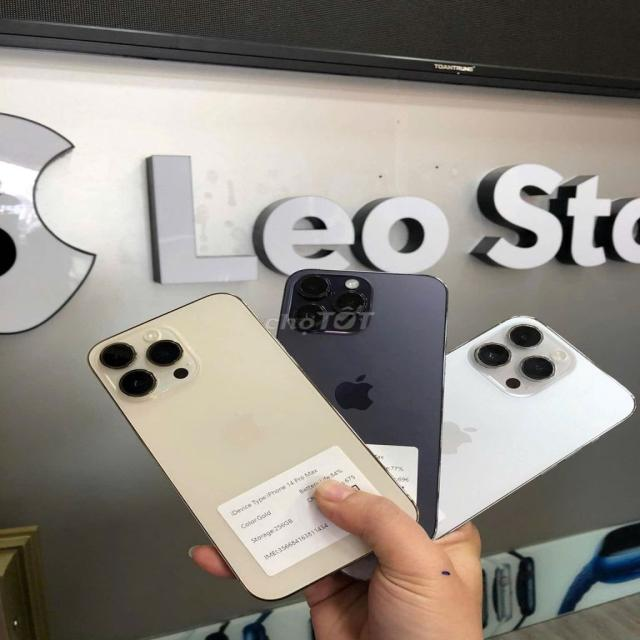gen_14: (89, 284, 419, 590)
